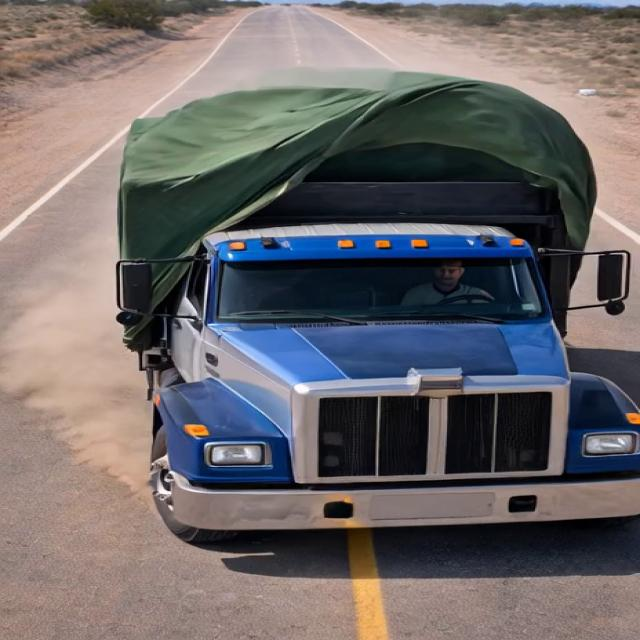trailer: (103, 77, 595, 190)
truck: (89, 61, 636, 566)
